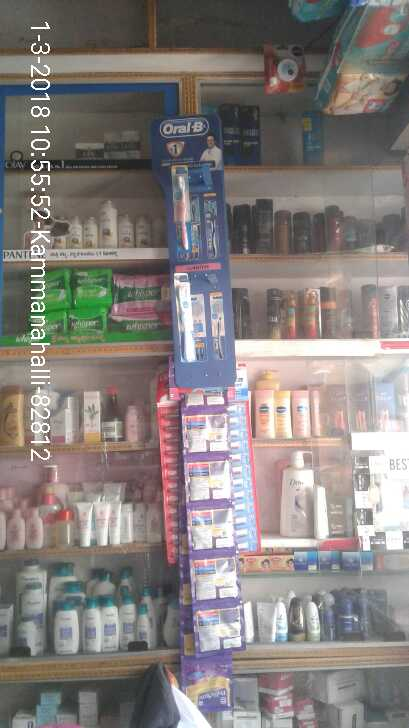beauty: (37, 199, 175, 248), (71, 126, 147, 164)
pharmacy: (170, 157, 193, 258), (172, 275, 198, 362), (114, 274, 174, 311), (26, 268, 71, 308), (103, 311, 173, 336), (75, 268, 116, 308), (69, 304, 100, 334)
